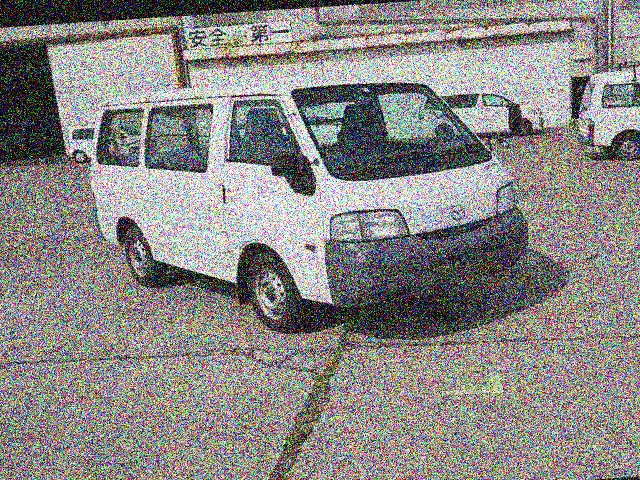van: (91, 67, 537, 329)
